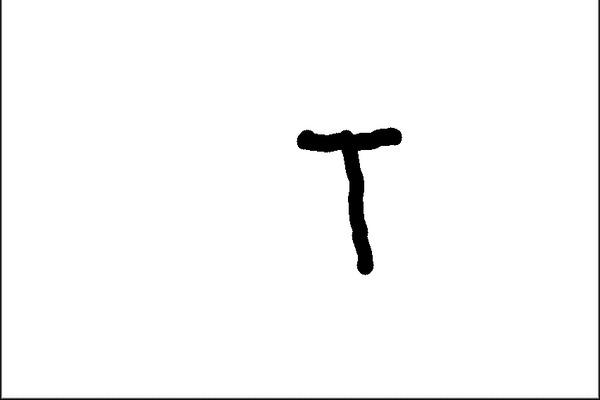T: (292, 126, 408, 277)
